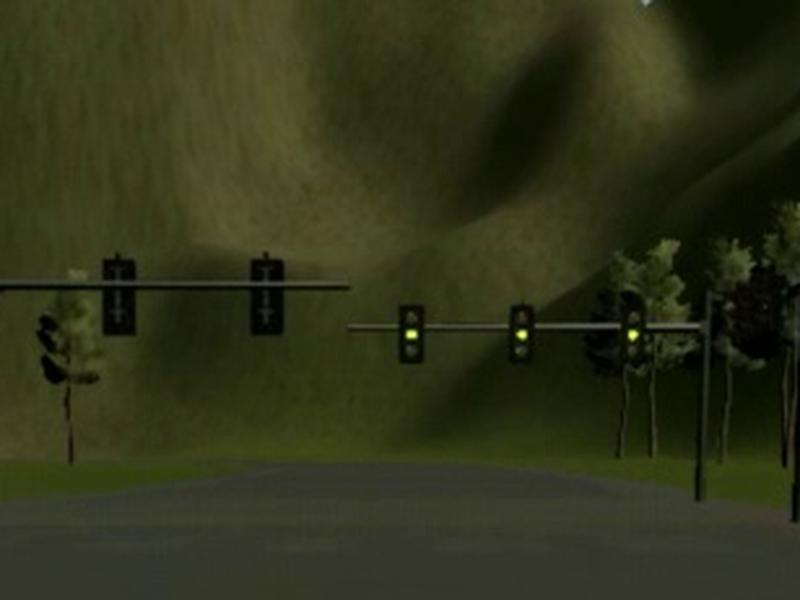Yellow: (397, 303, 426, 364), (507, 303, 534, 364), (620, 306, 644, 359)
